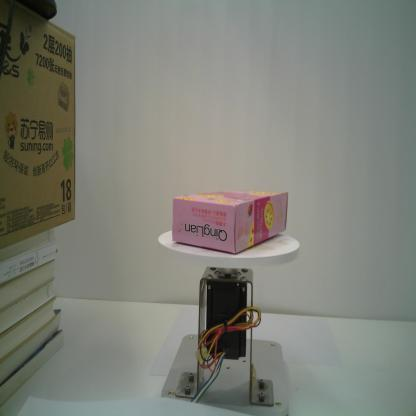Dessert: (172, 189, 289, 256)
